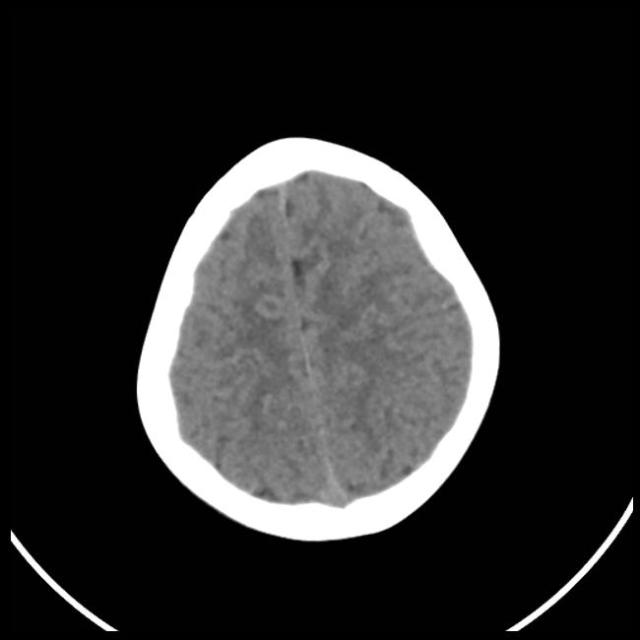lesion: (133, 133, 504, 542)
